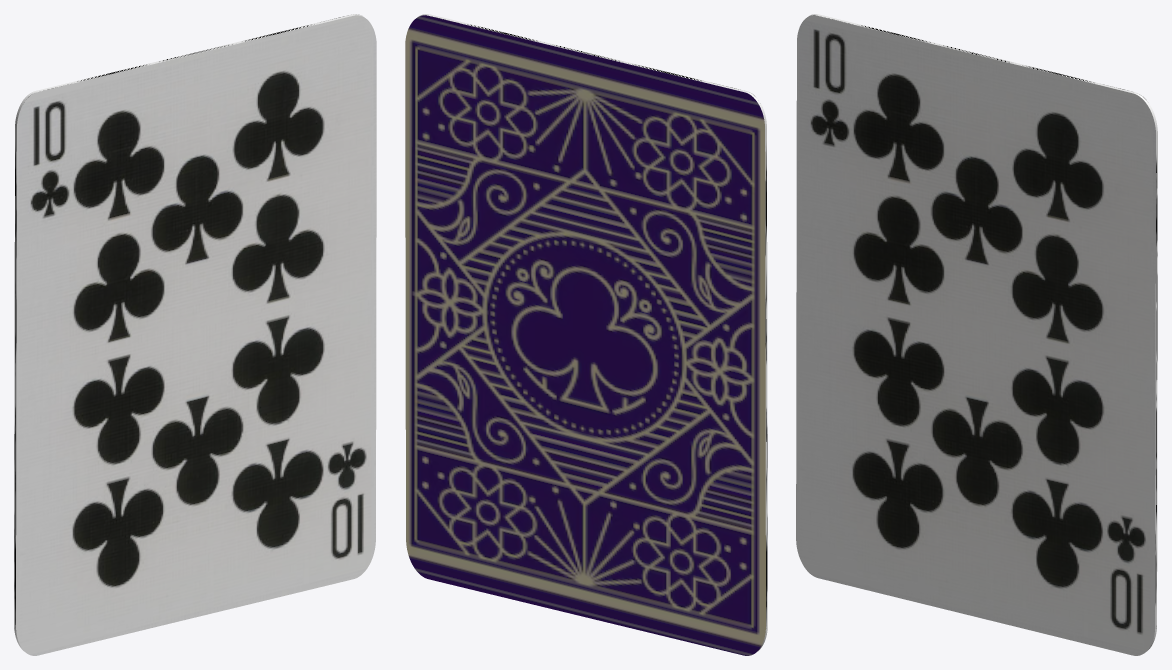
Rendered from 10treboles.glb.
The picture shows the model from 3 angles, left to right: view 1: azimuth 30°, elevation 25°; view 2: azimuth 150°, elevation 25°; view 3: azimuth 330°, elevation 25°; orthographic projection.
Visible parts, largest first — view 1: Cubo.010; view 2: Cubo.010; view 3: Cubo.010.
Boxes of the visible parts, x1=… form: Cubo.010: x1=14, y1=14, x2=376, y2=655; Cubo.010: x1=405, y1=14, x2=767, y2=655; Cubo.010: x1=796, y1=14, x2=1157, y2=655.
Bounding box in the file's own units: 7.36 × 11 × 0.065.
3 materials, 3 textured.
